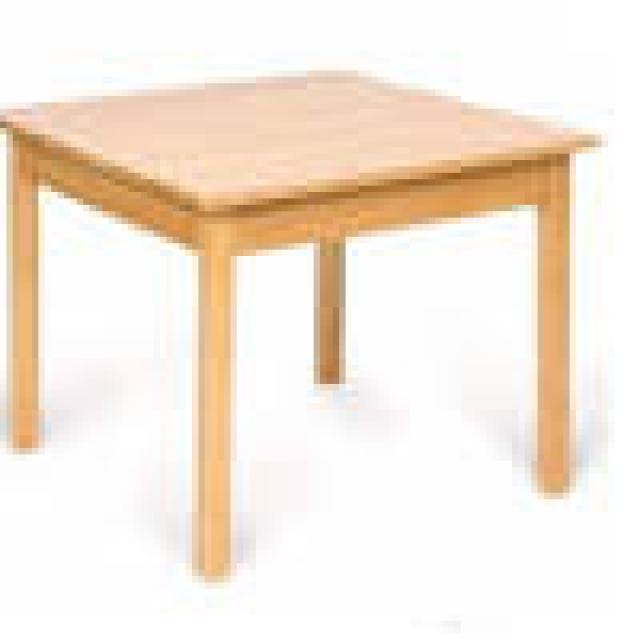obstacle: (12, 24, 611, 569)
